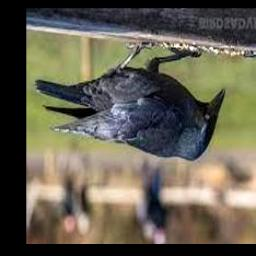Crow: (34, 42, 225, 162)
